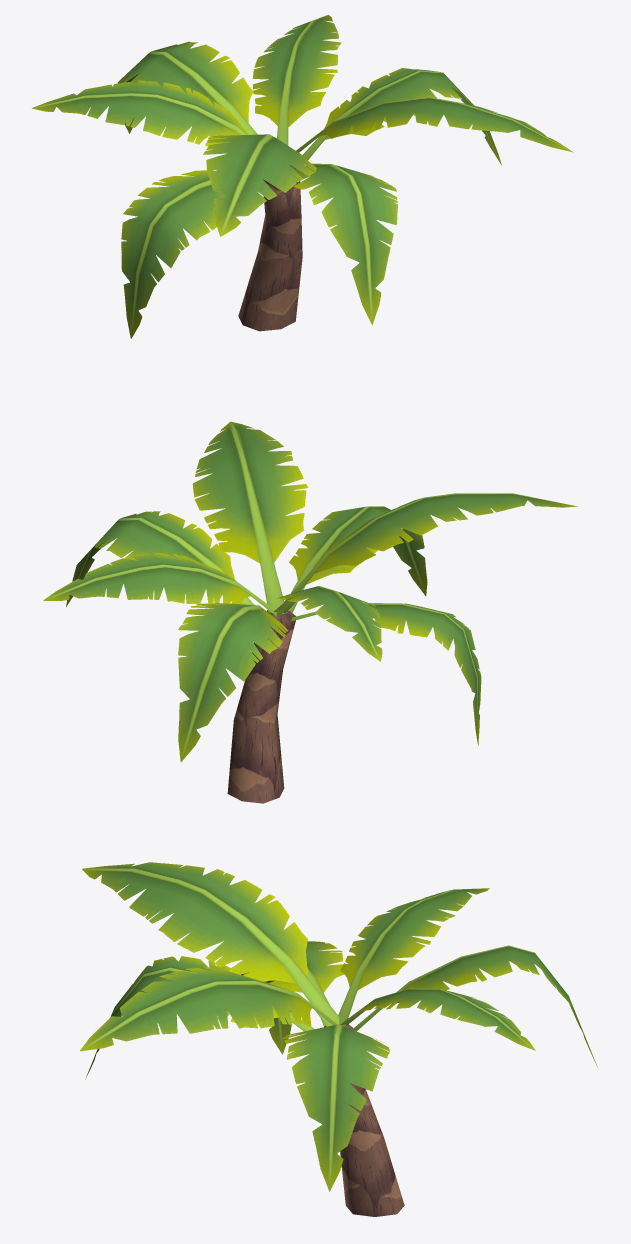
Rendered from palmtree_5.glb.
3 views of the same model, one above another, from view 1: azimuth 30°, elevation 25°; view 2: azimuth 150°, elevation 25°; view 3: azimuth 270°, elevation 25° (orthographic). The views are drawn at different scales.
Visible parts, largest first — view 1: PalmTree_5; view 2: PalmTree_5; view 3: PalmTree_5.
Part boxes in pixels (x1=…): PalmTree_5: x1=32, y1=14, x2=573, y2=338; PalmTree_5: x1=43, y1=421, x2=577, y2=803; PalmTree_5: x1=80, y1=862, x2=597, y2=1216.
Bounding box in the file's own units: 3.49 × 1.8 × 3.62.
Materials: 2 (2 with a texture image).
